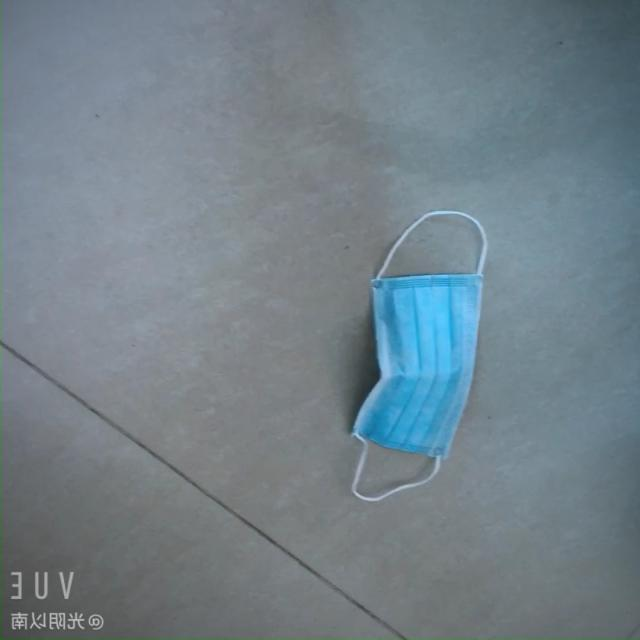face mask: (337, 208, 485, 501)
